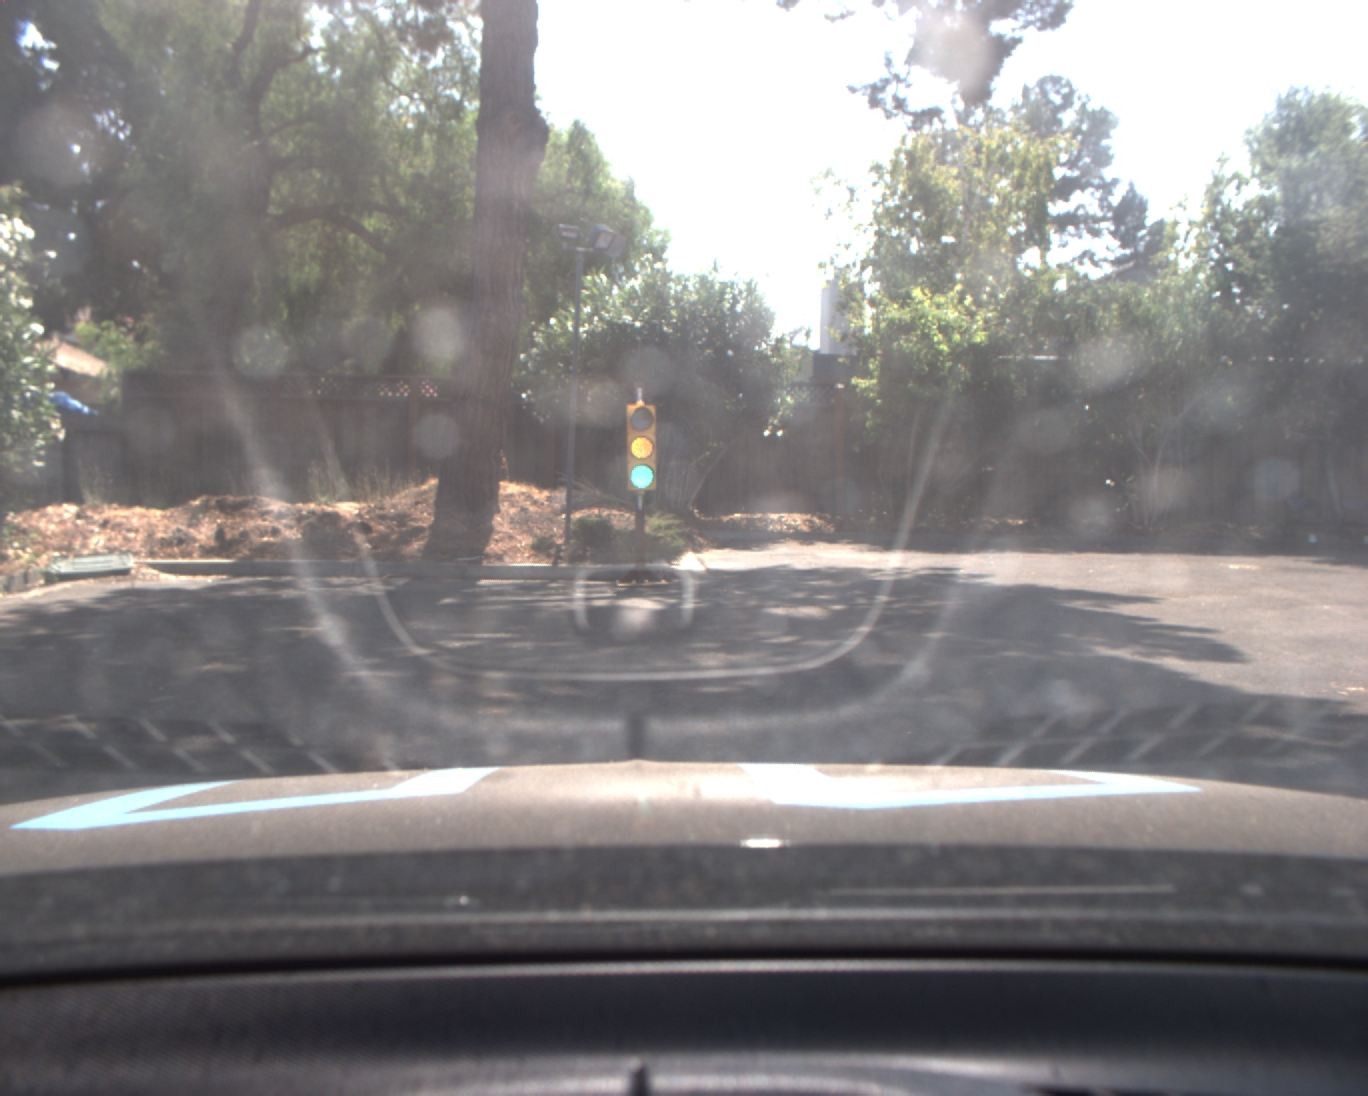green: (627, 403, 660, 501)
